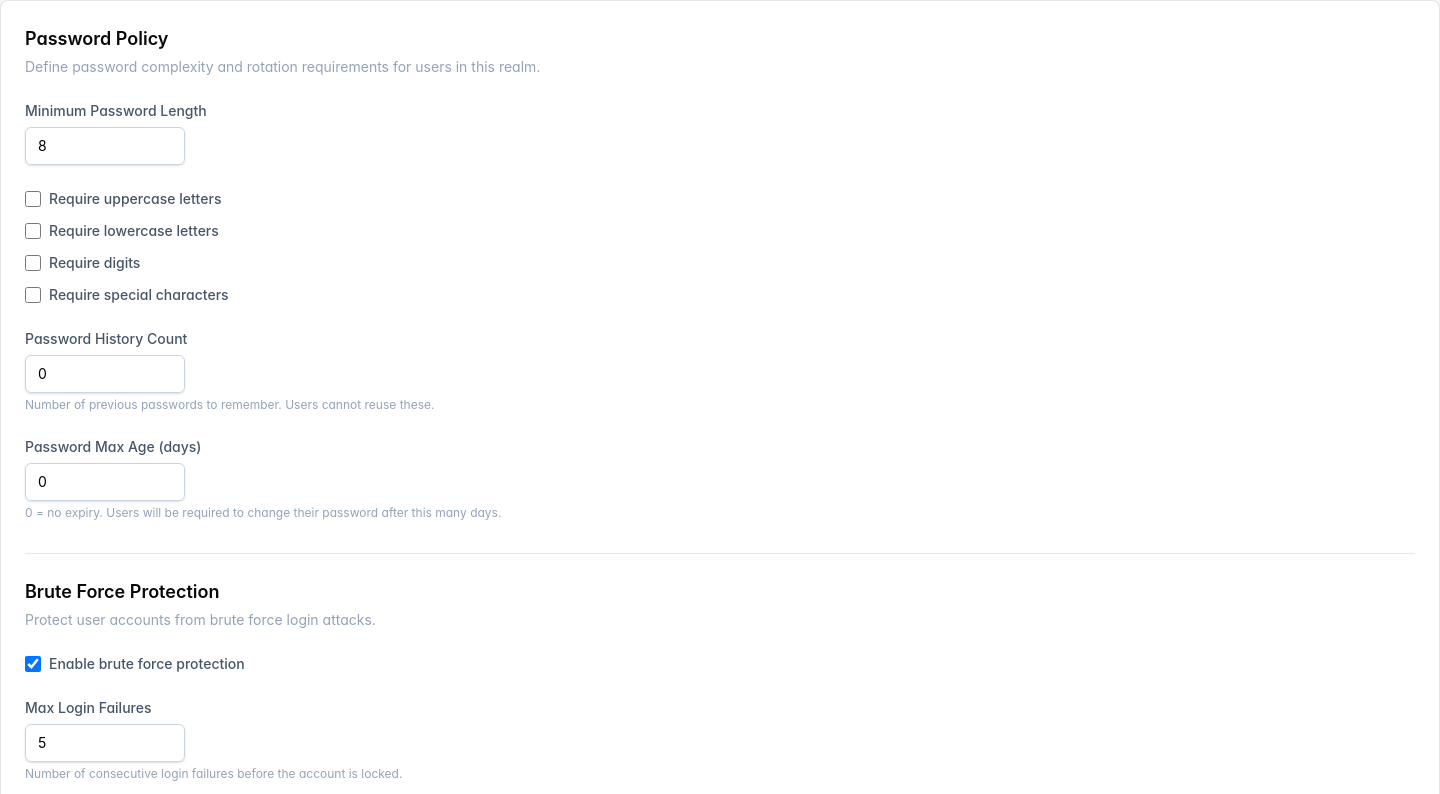
Scenario: SecuritySettingsForm › shows the warning as soon as protection is switched off
Click the checkbox labelled "Enable brute force protection": [33, 664] box 25,656 -> 41,672
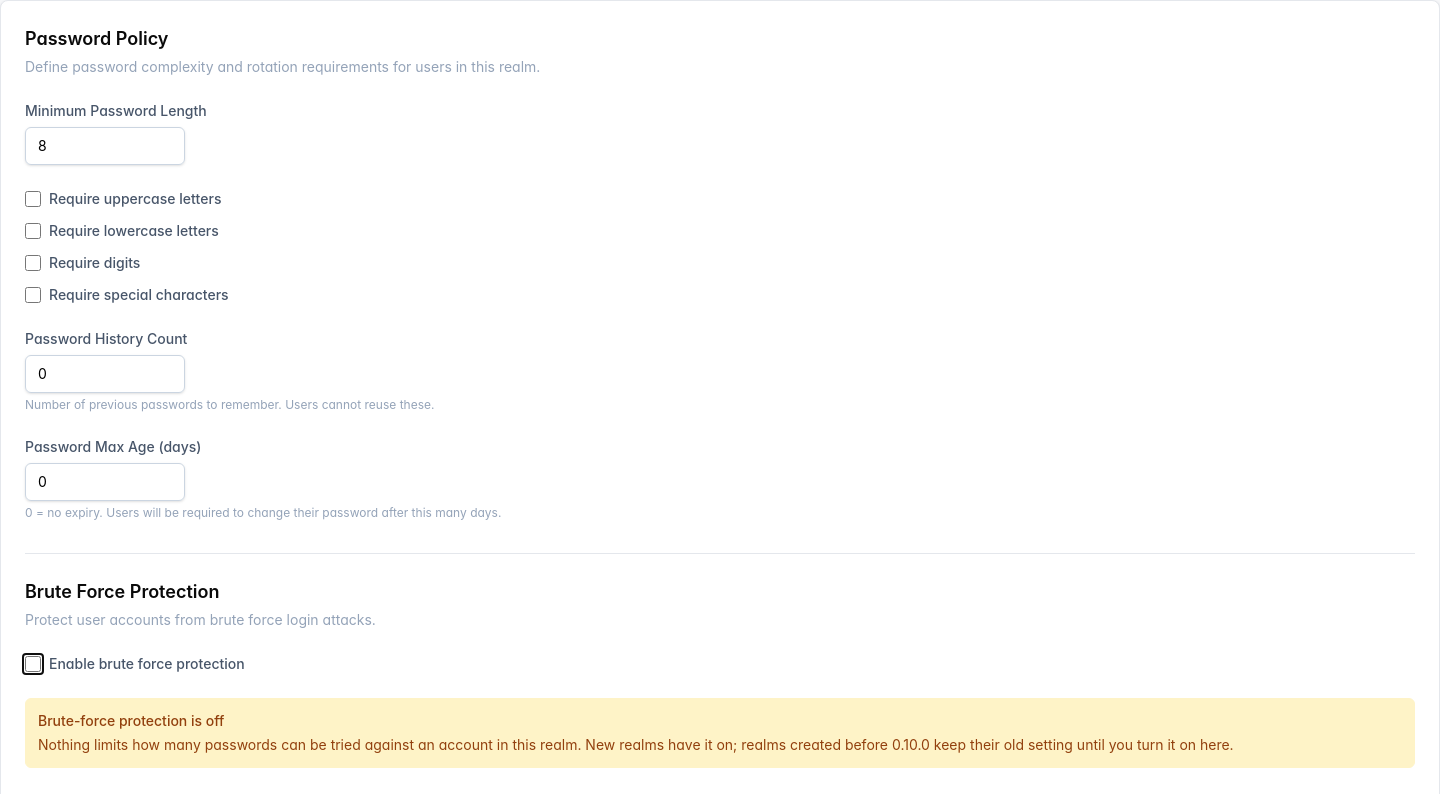
Check: the message with test id "brute-force-off-warning" is shown, box 25,698 -> 1415,768
